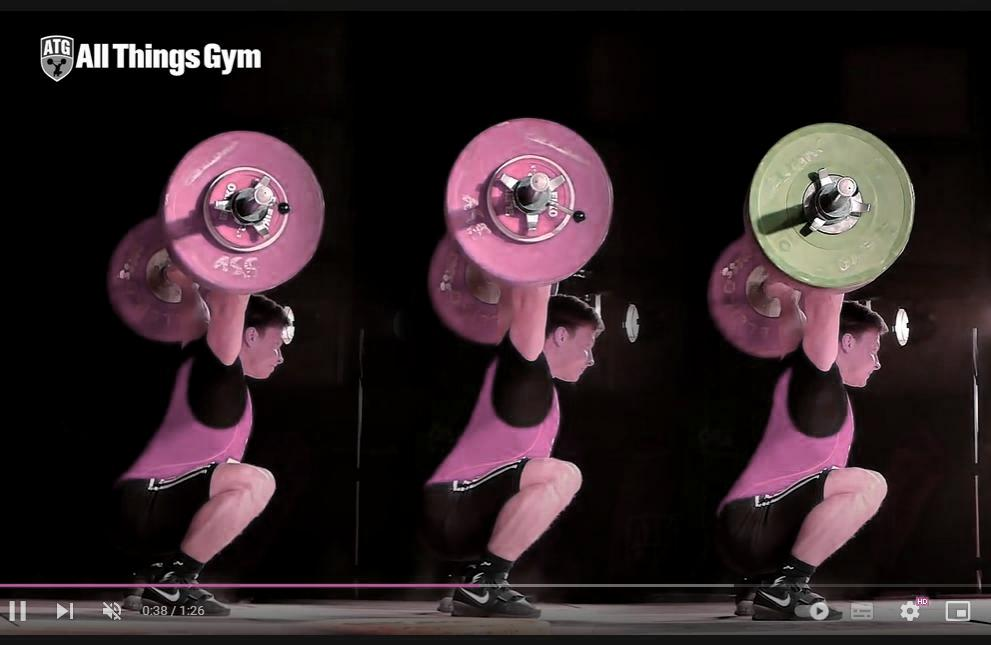Barbell: (506, 158, 585, 229), (805, 161, 877, 226), (224, 173, 297, 228)
